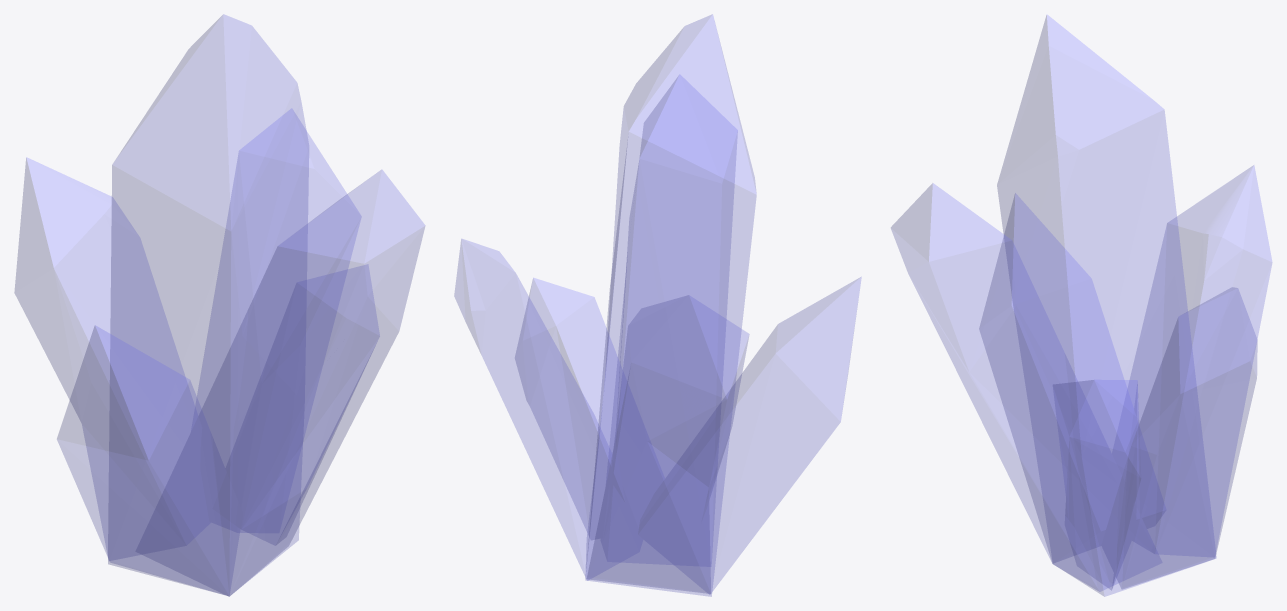
File: crystals.glb
3 views of the same model, side by side, from view 1: azimuth 30°, elevation 25°; view 2: azimuth 150°, elevation 25°; view 3: azimuth 270°, elevation 25° (orthographic). The views are drawn at different scales.
Visible parts, largest first — view 1: node_MeshObject92954624-PolyGlass24; view 2: node_MeshObject92954624-PolyGlass24; view 3: node_MeshObject92954624-PolyGlass24.
Part boxes in pixels (x1,y1,x2,y2): node_MeshObject92954624-PolyGlass24: (14, 14, 425, 596); node_MeshObject92954624-PolyGlass24: (454, 14, 861, 596); node_MeshObject92954624-PolyGlass24: (891, 15, 1272, 596).
Bounding box in the file's own units: 3.92 × 6.05 × 3.83.
